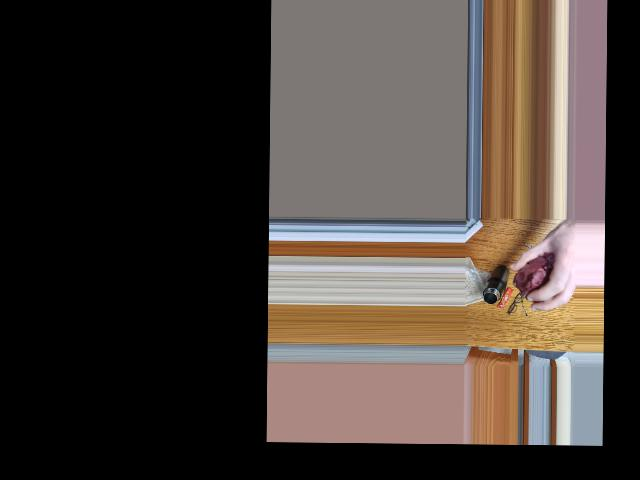onion: (516, 256, 556, 302)
